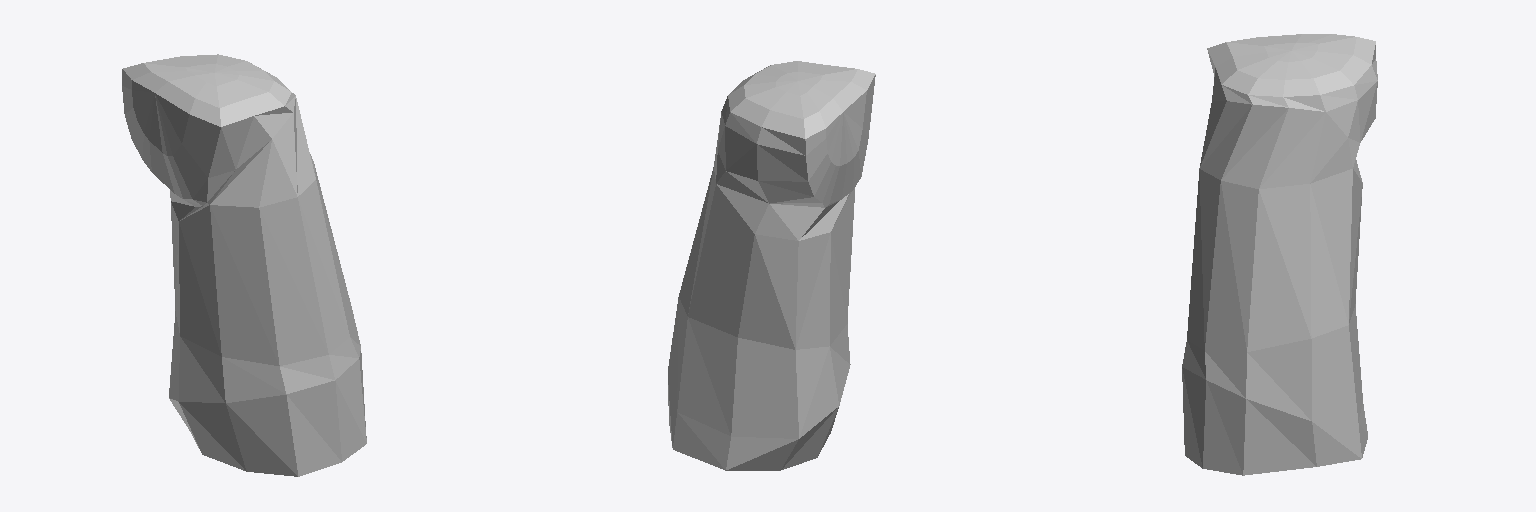
File: leg left.obj
3 views of the same model, side by side, from view 1: azimuth 30°, elevation 25°; view 2: azimuth 150°, elevation 25°; view 3: azimuth 270°, elevation 25° (orthographic).
Parts seen in each view (by area): view 1: model459.014; view 2: model459.014; view 3: model459.014.
Part boxes in pixels (left/top/right/bottom): model459.014: left=122, top=54, right=366, bottom=476; model459.014: left=668, top=61, right=875, bottom=470; model459.014: left=1182, top=34, right=1377, bottom=475.
Bounding box in the file's own units: 2.64 × 5.2 × 2.46.